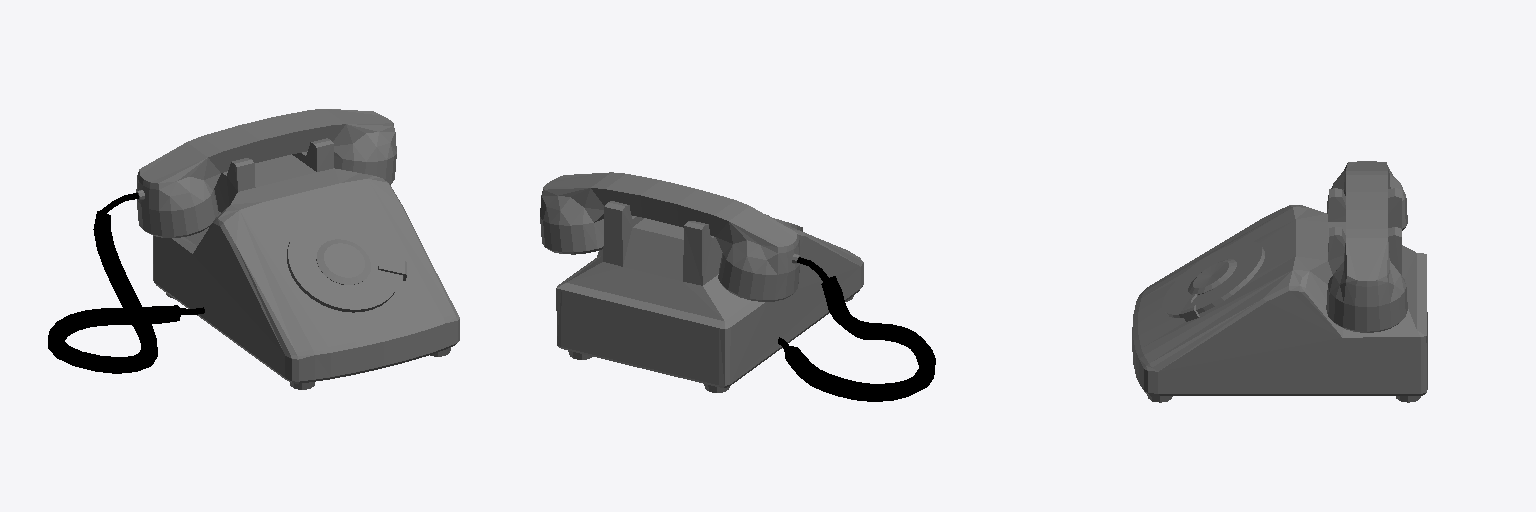
Rendered from Communication.obj.
The picture shows the model from 3 angles: view 1: azimuth 30°, elevation 25°; view 2: azimuth 150°, elevation 25°; view 3: azimuth 270°, elevation 25°; orthographic projection.
Visible parts, largest first — view 1: polySurface139 polySurface137, polySurface137 polySurface140, polySurface138 polySurface125, polySurface137 polySurface150, polySurface137 polySurface142; view 2: polySurface139 polySurface137, polySurface137 polySurface140, polySurface138 polySurface125; view 3: polySurface139 polySurface137, polySurface137 polySurface140, polySurface137 polySurface150, polySurface137 polySurface142.
Boxes of the visible parts, x1=… form: polySurface139 polySurface137: x1=153, y1=138, x2=459, y2=383; polySurface137 polySurface140: x1=136, y1=109, x2=396, y2=237; polySurface138 polySurface125: x1=48, y1=193, x2=204, y2=373; polySurface137 polySurface150: x1=287, y1=215, x2=400, y2=312; polySurface137 polySurface142: x1=316, y1=239, x2=370, y2=284; polySurface139 polySurface137: x1=556, y1=201, x2=863, y2=387; polySurface137 polySurface140: x1=540, y1=172, x2=799, y2=301; polySurface138 polySurface125: x1=778, y1=257, x2=935, y2=401; polySurface139 polySurface137: x1=1132, y1=188, x2=1427, y2=395; polySurface137 polySurface140: x1=1326, y1=161, x2=1407, y2=332; polySurface137 polySurface150: x1=1162, y1=241, x2=1264, y2=317; polySurface137 polySurface142: x1=1188, y1=259, x2=1236, y2=294.
Bounding box in the file's own units: 39.27 × 17.18 × 27.97.